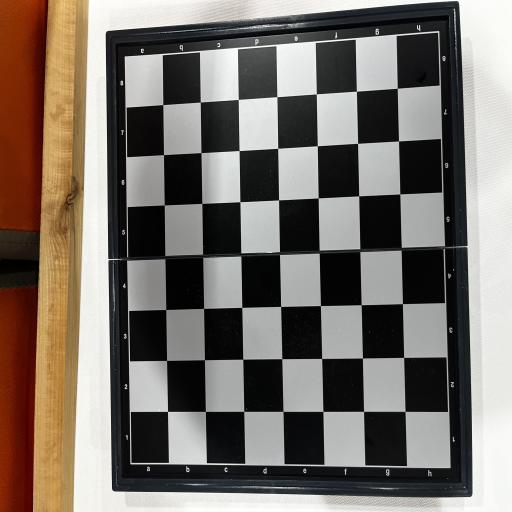Board: (106, 0, 472, 498)
